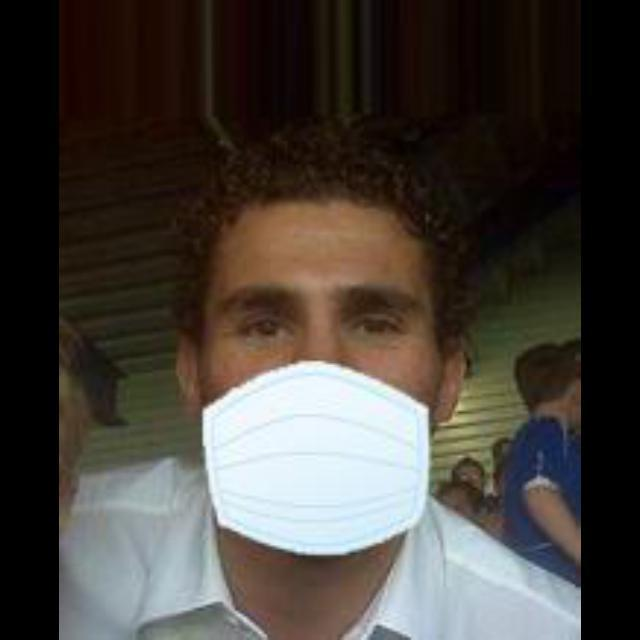suspicion: (128, 133, 486, 552)
